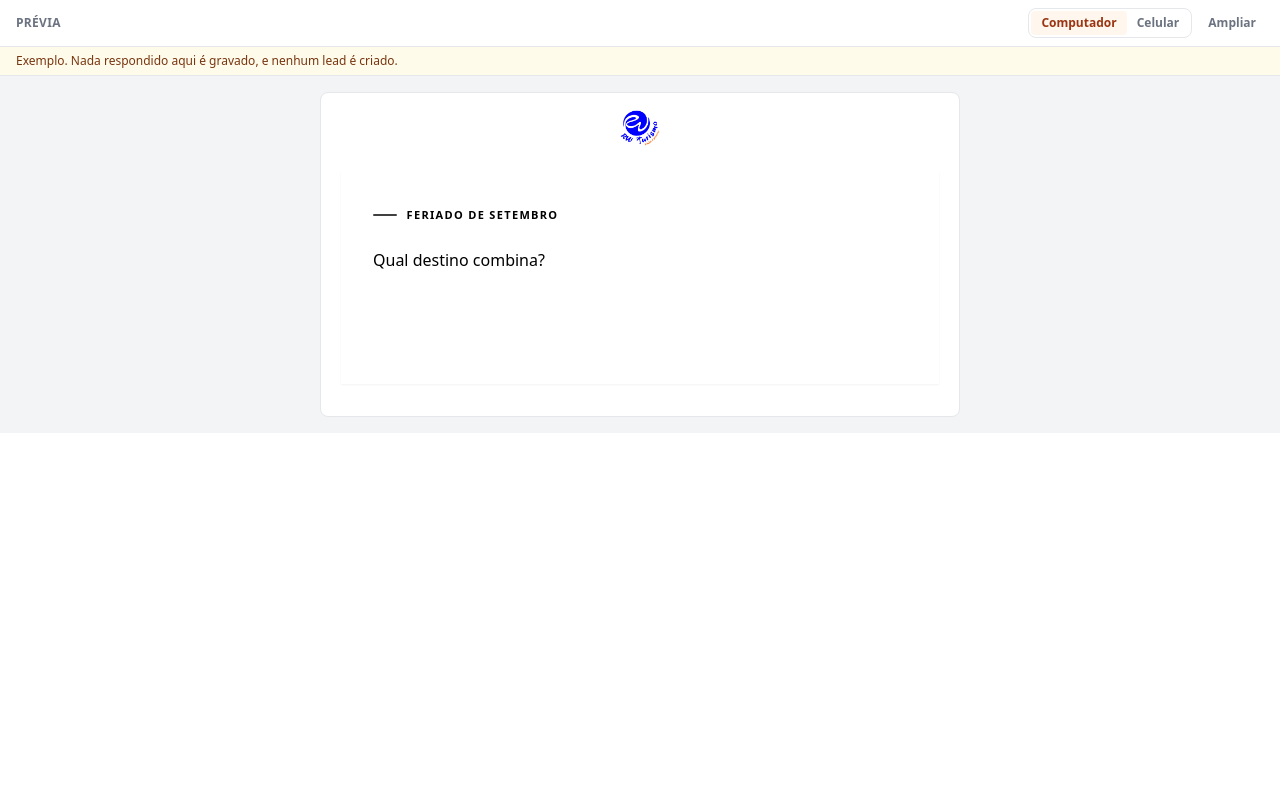
ampliar › abre em tela cheia e volta
Click the button "Ampliar".
click(1232, 23)  # box [1200,11,1264,35]
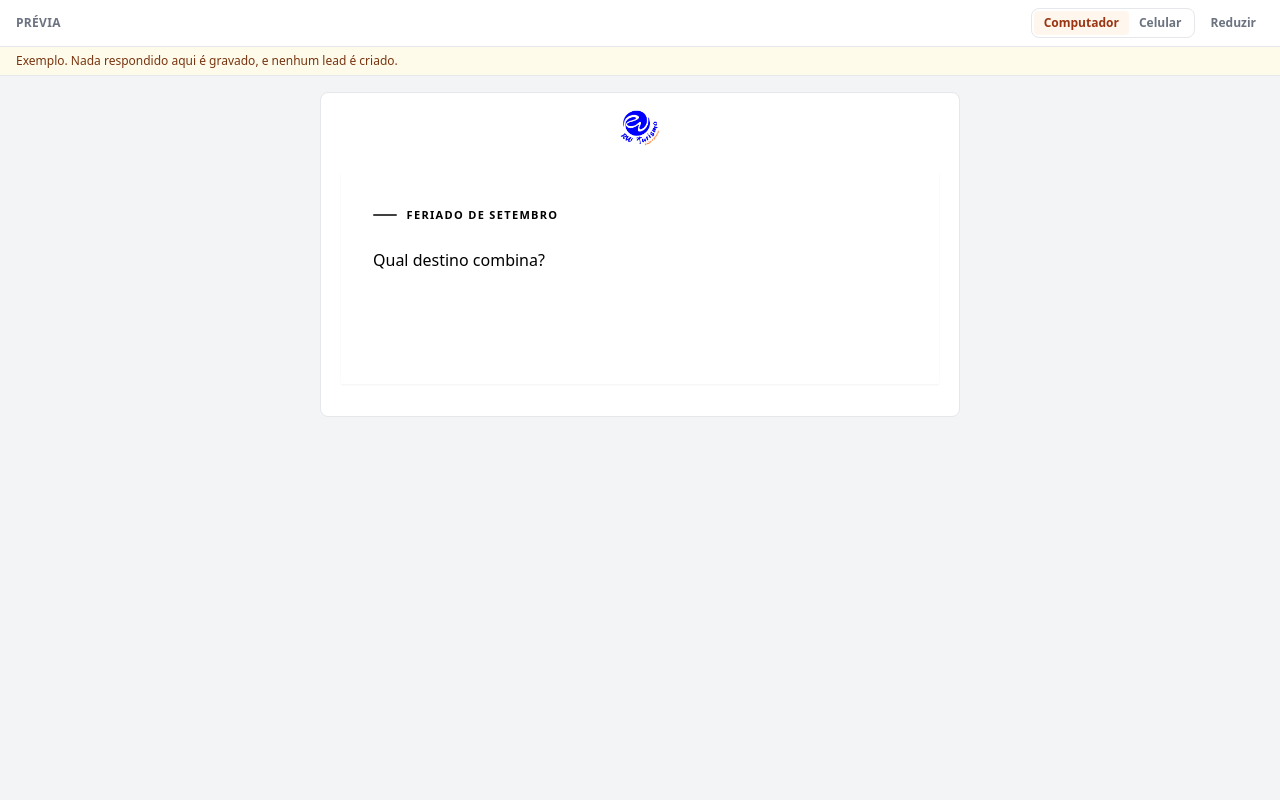
Result: the button "Reduzir" is shown
Click the button "Reduzir".
click(1233, 23)  # box [1202,11,1264,35]
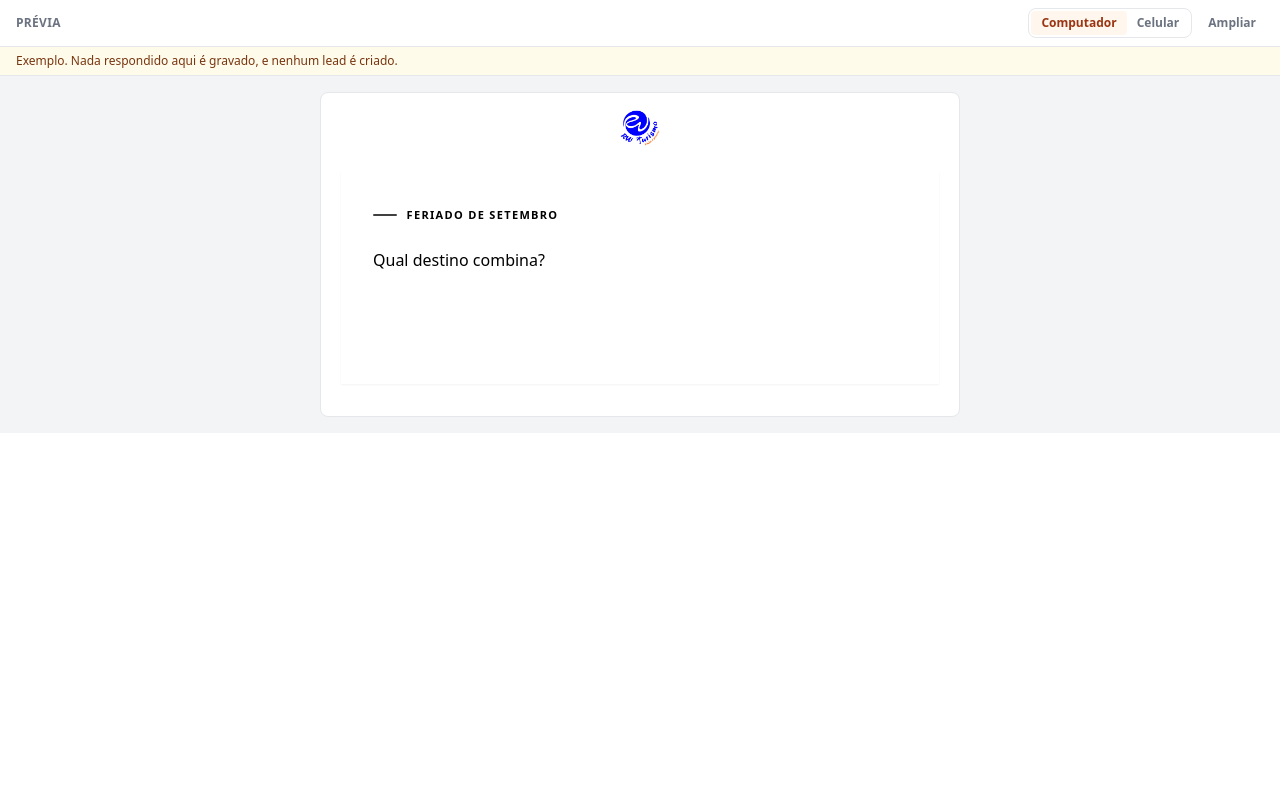
Result: the button "Ampliar" is shown at [1200,11,1264,35]
